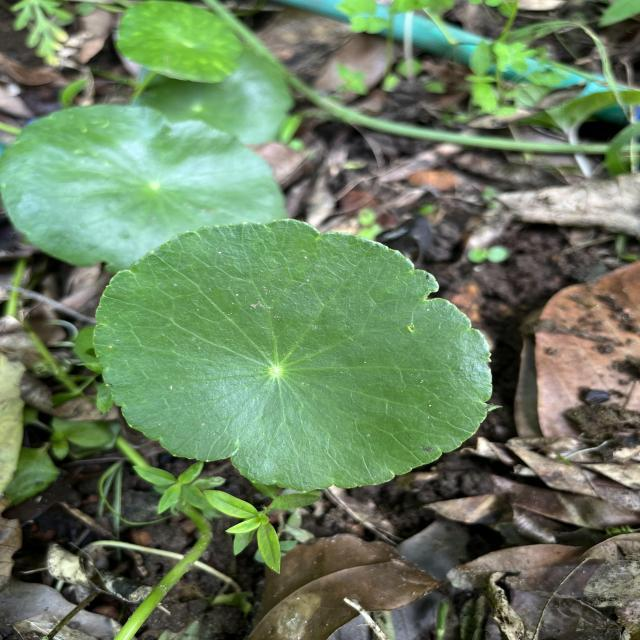Bacopa monnieri: (90, 214, 498, 496), (1, 100, 294, 278)
